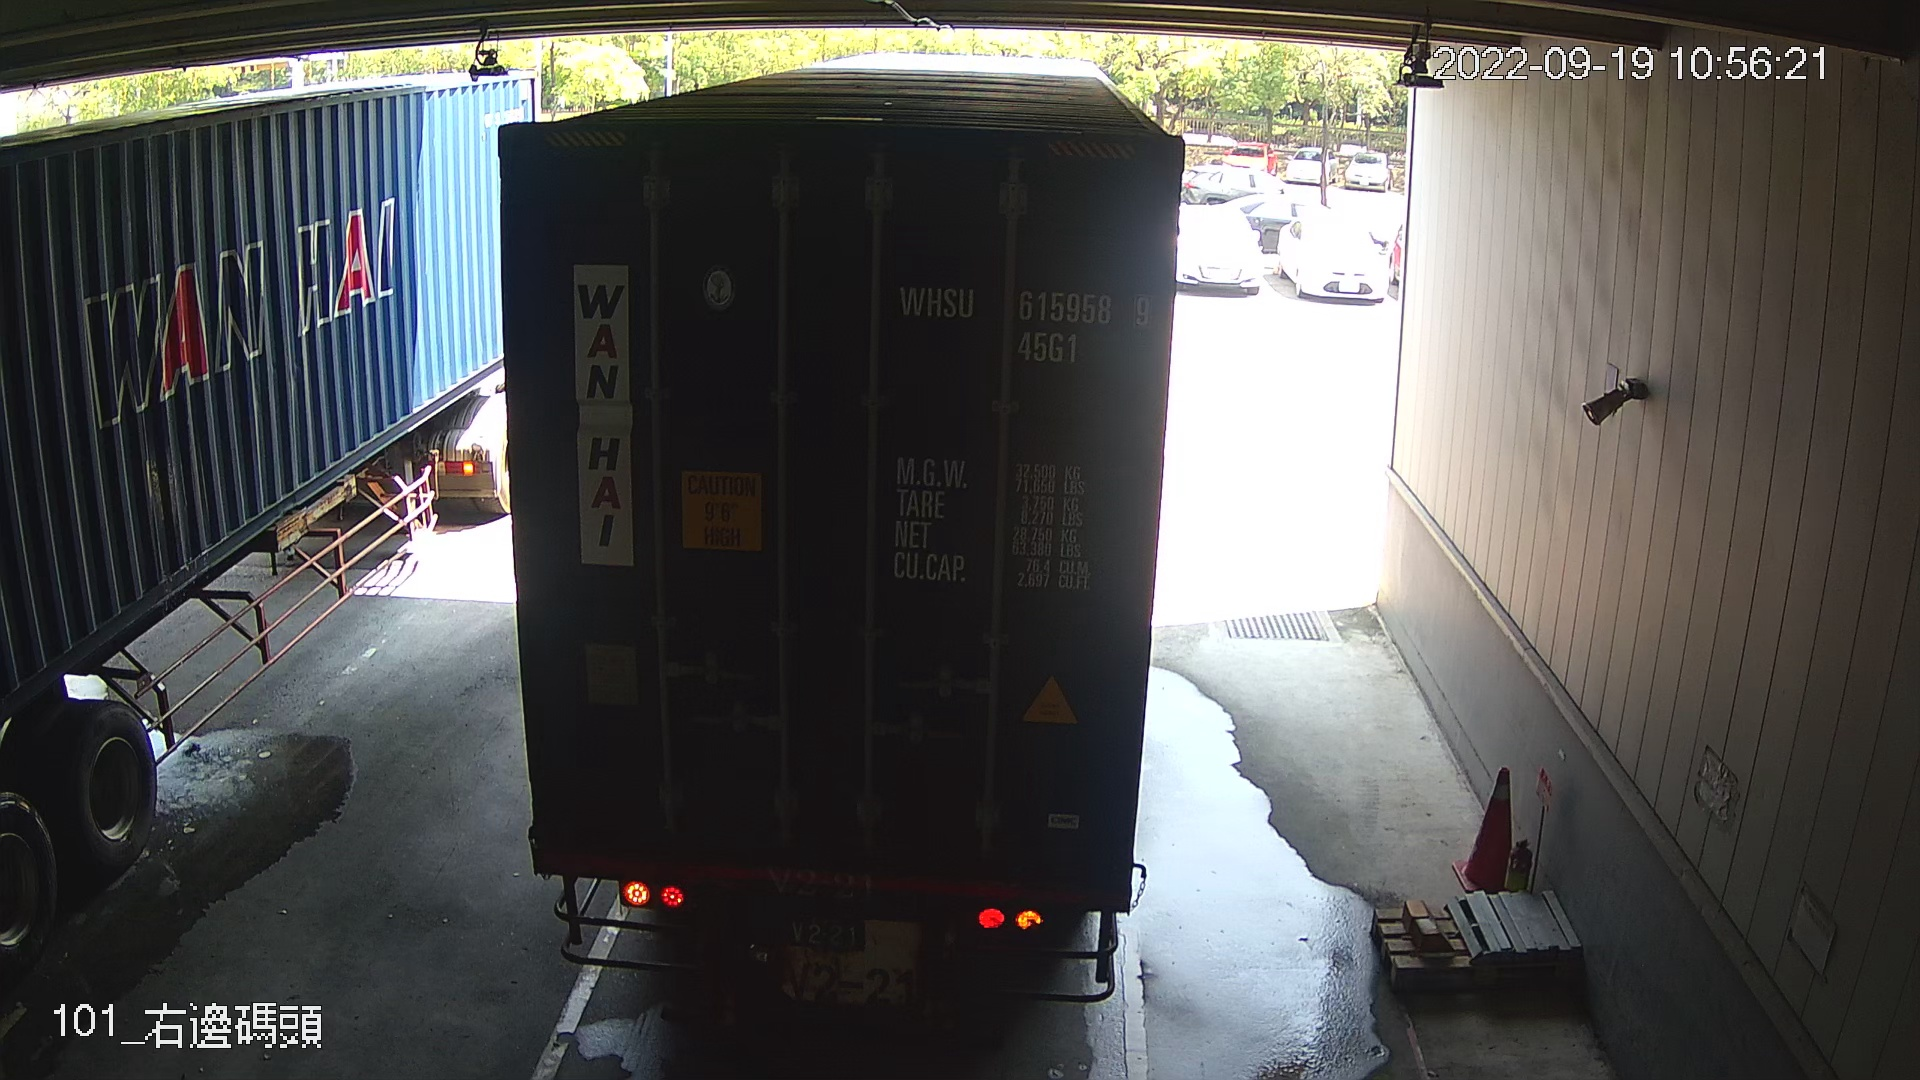container: (887, 272, 1159, 375)
